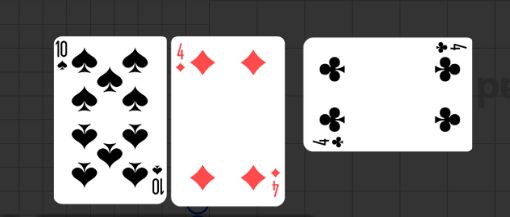10S: (55, 40, 69, 73)
4C: (433, 41, 468, 55)
4D: (269, 166, 282, 198)
